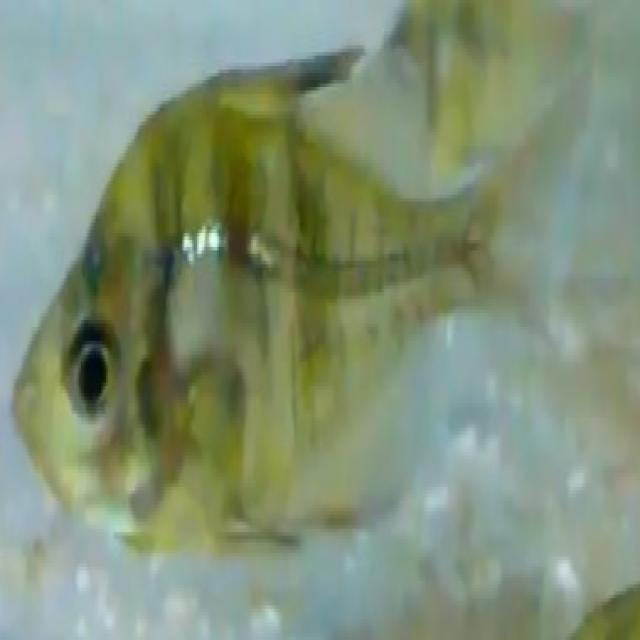Glass-Perchlet: (5, 29, 606, 584)
